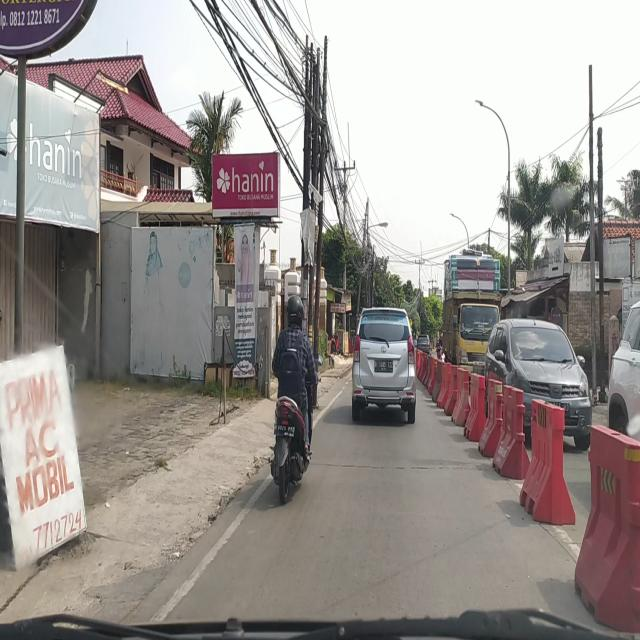Sewer Cover: (310, 458, 482, 474)
